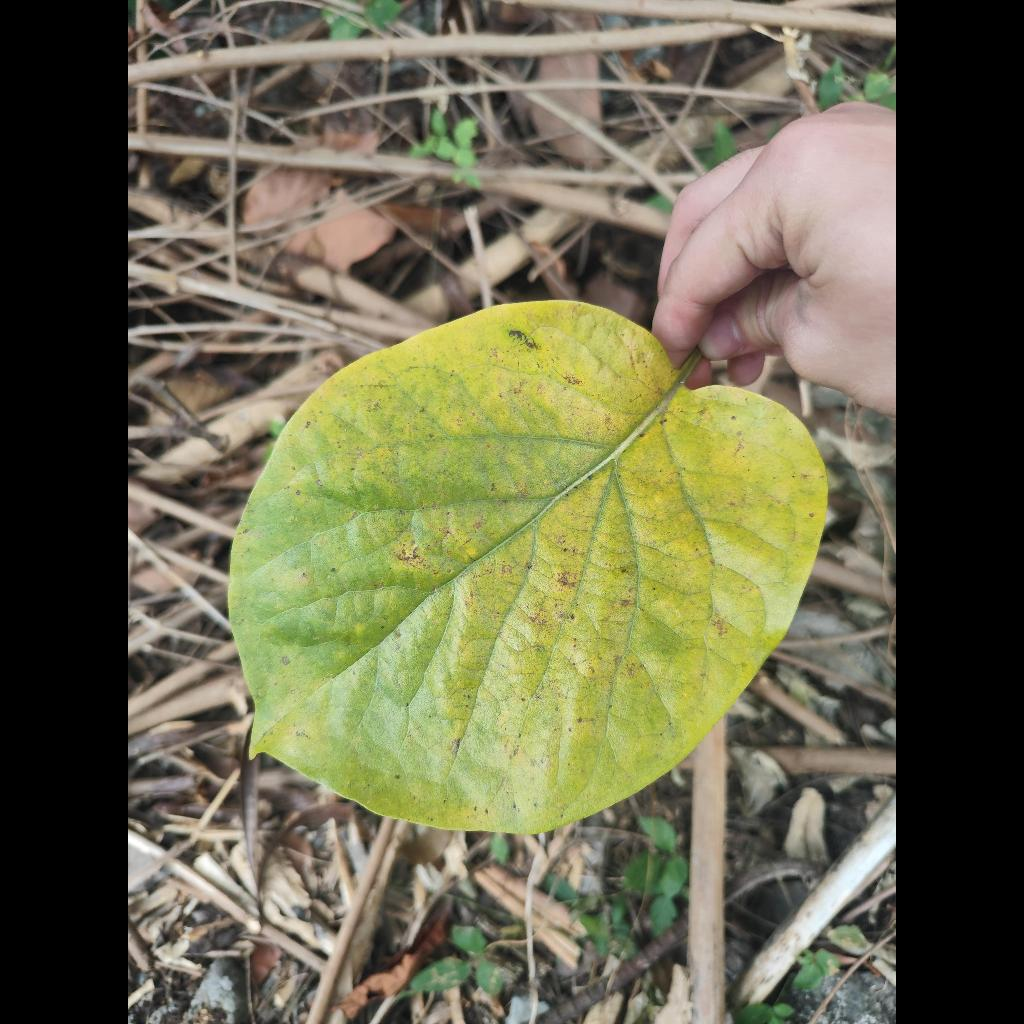nutrient_deficiency: (229, 302, 826, 833)
